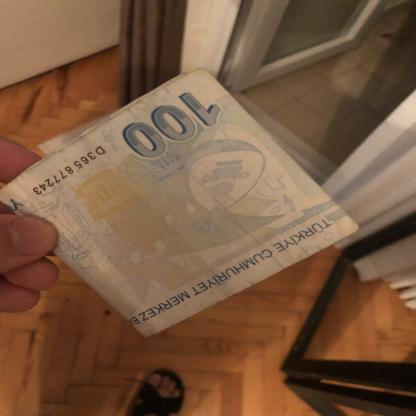5 TL: (1, 66, 360, 338)
